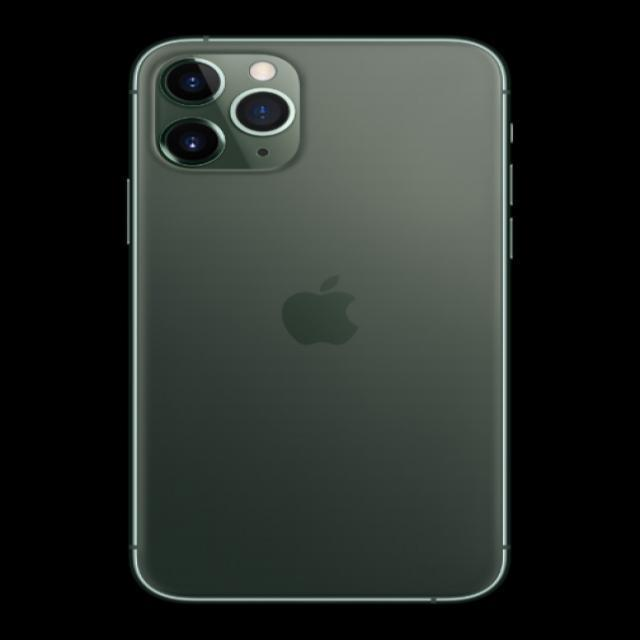phone: (122, 34, 510, 600)
